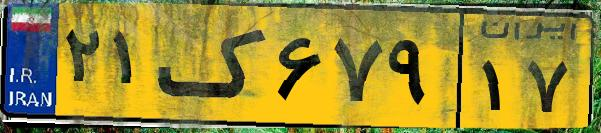1: (475, 38, 525, 113), (110, 28, 158, 98)
2: (57, 26, 110, 100)
6: (270, 28, 330, 110)
7: (330, 28, 385, 110), (525, 38, 570, 115)
9: (385, 28, 445, 110)
ک: (158, 12, 270, 120)
